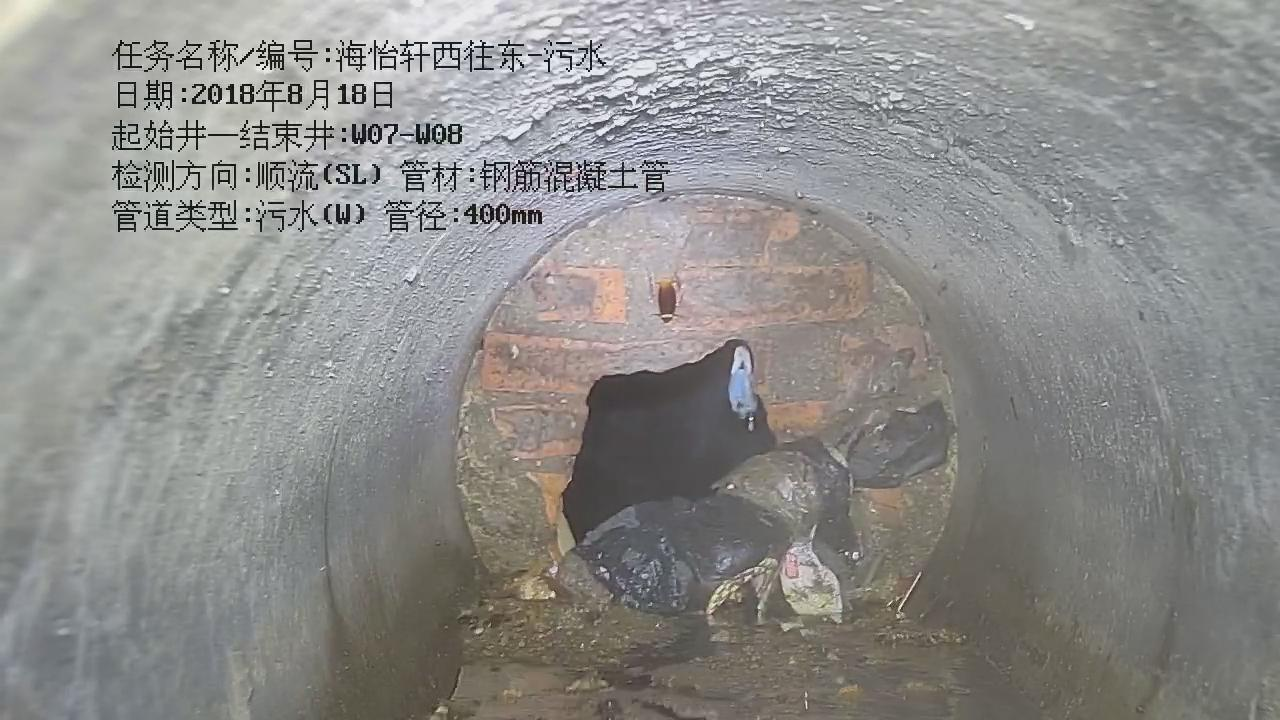CJ: (434, 600, 1039, 719)
CQBG: (458, 194, 949, 584), (856, 467, 954, 596)
